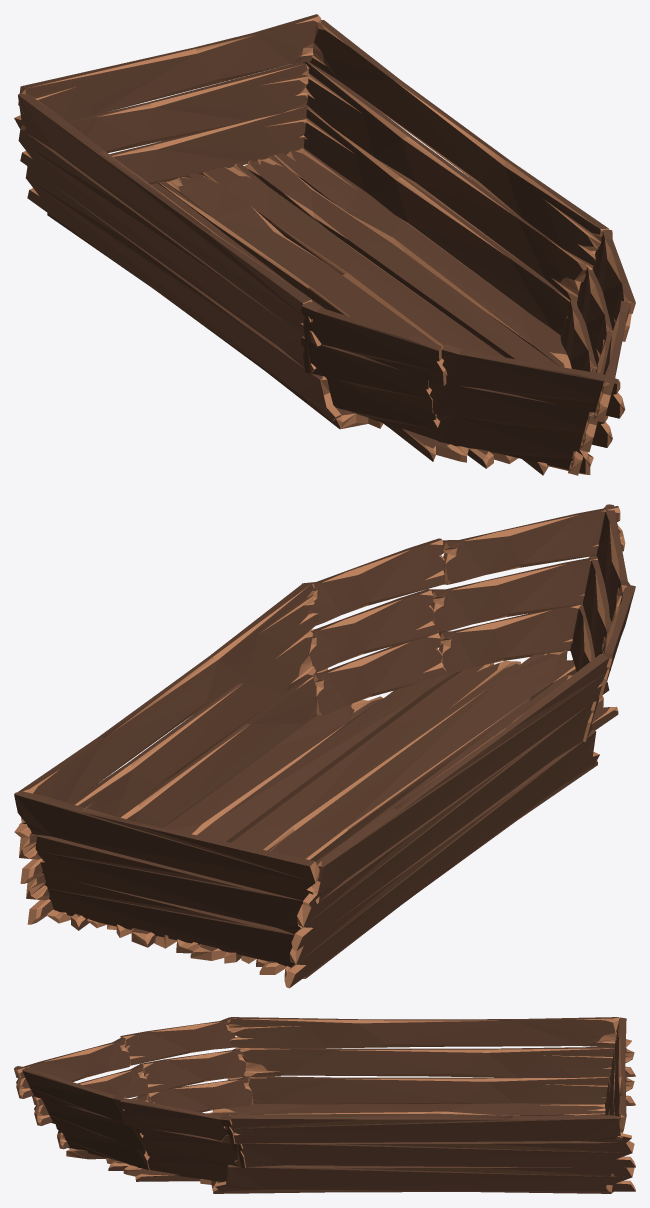
File: Ship.fbx
3 renders of one model, top to bottom at view 1: azimuth 30°, elevation 25°; view 2: azimuth 150°, elevation 25°; view 3: azimuth 270°, elevation 25°, orthographic. The views are drawn at different scales.
Visible parts, largest first — view 1: Ship; view 2: Ship; view 3: Ship.
Part boxes in pixels (x1,y1,x2,y2): Ship: [14, 14, 635, 475]; Ship: [14, 504, 635, 988]; Ship: [14, 1017, 635, 1193].
Size of the model in its own units: 70.6 by 27.66 by 180.
